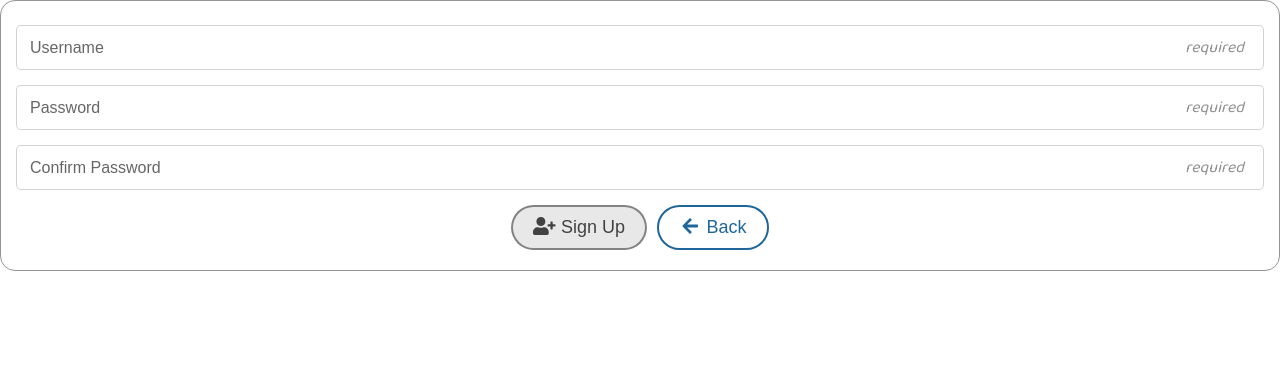
Test case: <SignUpForm /> › should render an error if the API returns an error
Type "testUser" into the field with placeholder "Username".
click(640, 48); type("testUser")  # box [16,25,1264,70]
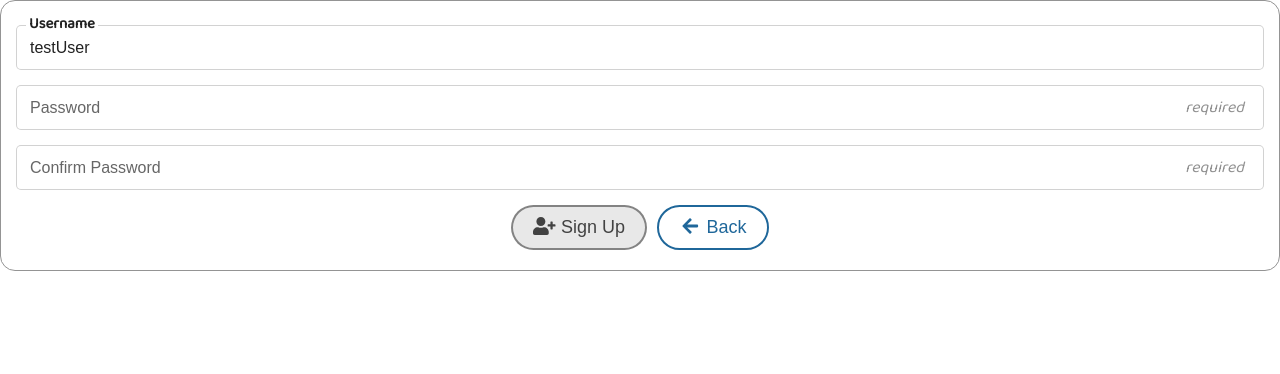
Type "Password1" into the password field with placeholder "Password".
click(640, 108); type("Password1")  # box [16,85,1264,130]
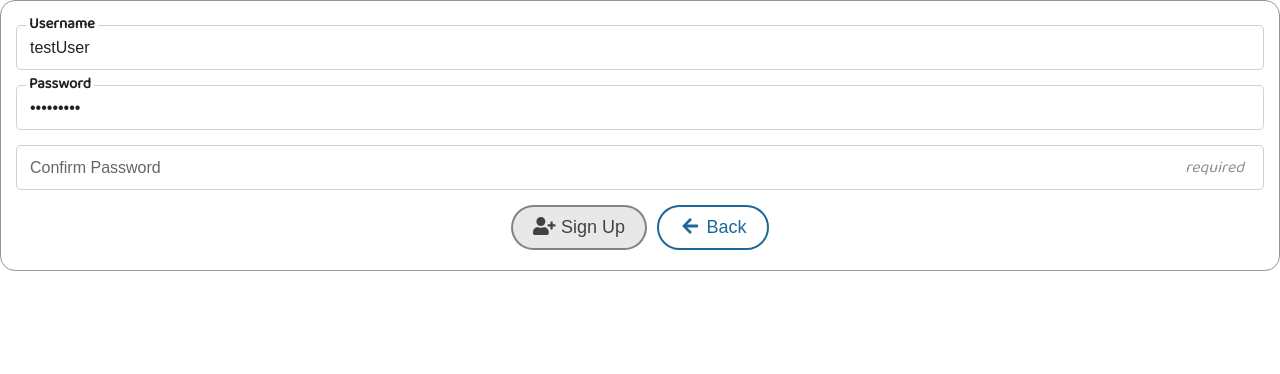
Type "Password1" into the password field with placeholder "Confirm Password".
click(640, 168); type("Password1")  # box [16,145,1264,190]
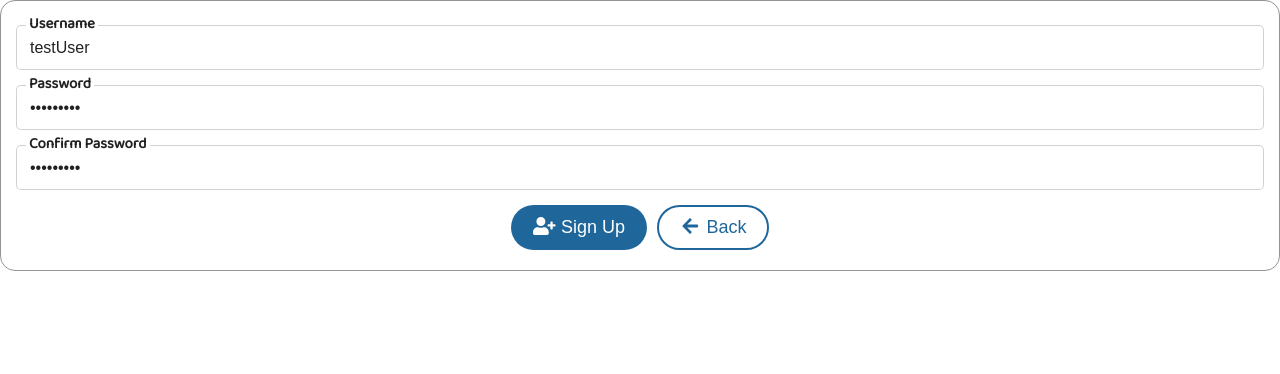
Click the button "Sign Up".
click(579, 228)  # box [512,205,647,250]
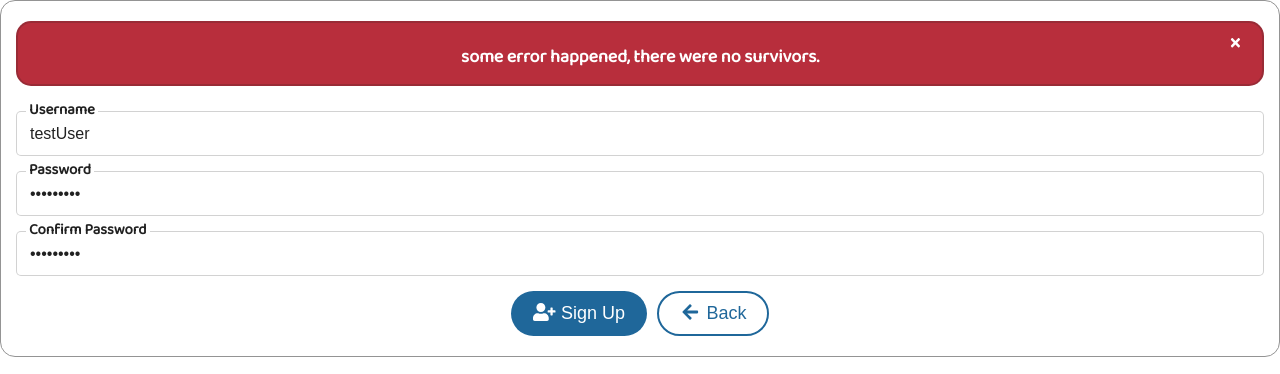
Expected: the text "some error happened, there were no survivors." is shown, [16,21,1264,86]
